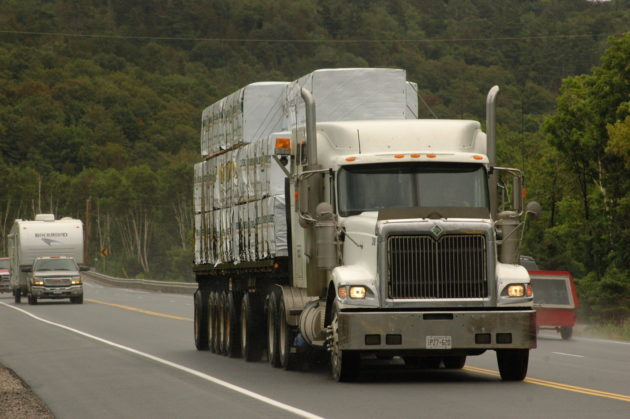truck: (184, 63, 545, 382)
